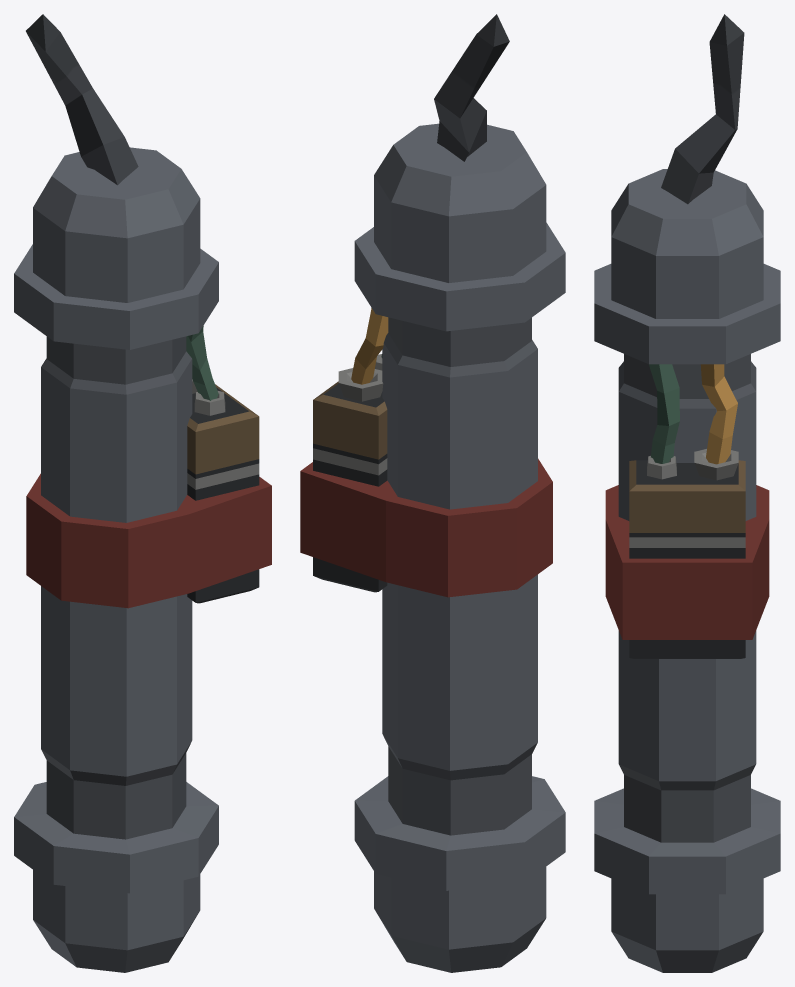
The model's file is SM_Prop_IED_07.fbx.
3 views of the same model, side by side, from view 1: azimuth 30°, elevation 25°; view 2: azimuth 150°, elevation 25°; view 3: azimuth 270°, elevation 25° (orthographic). The views are drawn at different scales.
Visible parts, largest first — view 1: SM_Prop_IED_07; view 2: SM_Prop_IED_07; view 3: SM_Prop_IED_07.
Boxes of the visible parts, x1,y1,x2,y2 form: SM_Prop_IED_07: [14, 14, 271, 972]; SM_Prop_IED_07: [300, 14, 565, 972]; SM_Prop_IED_07: [594, 14, 780, 972].
Size of the model in its own units: 7.68 by 33.4 by 6.21.
